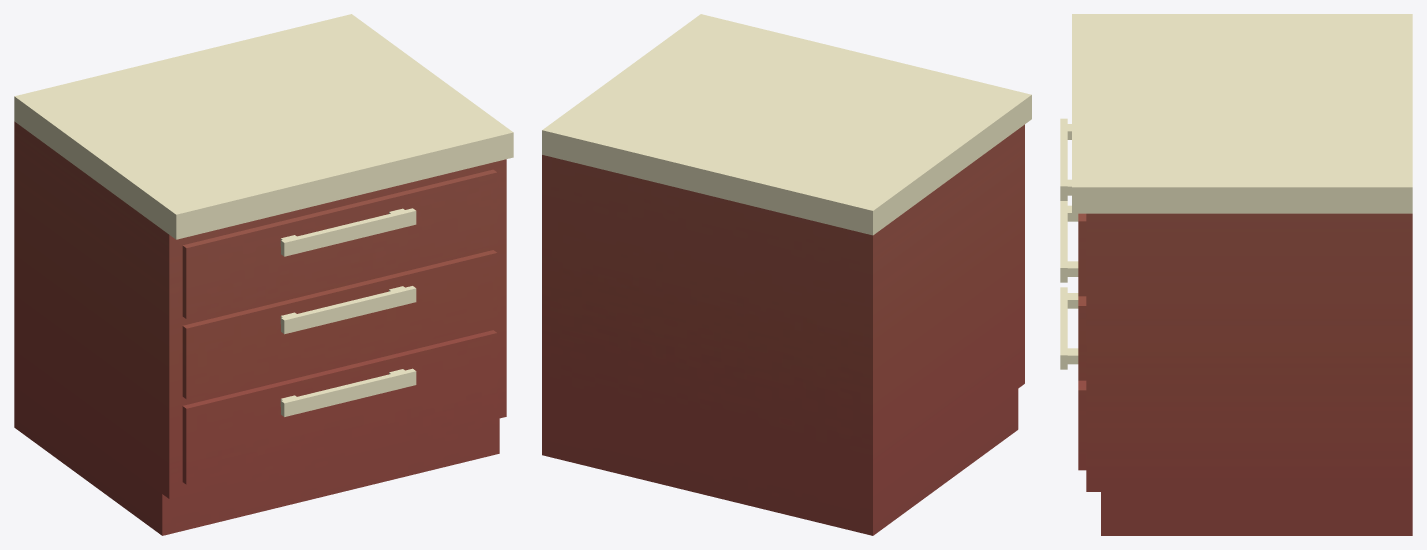
The model's file is SM_Cabinet_1_04.fbx.
3 views of the same model, side by side, from view 1: azimuth 30°, elevation 25°; view 2: azimuth 150°, elevation 25°; view 3: azimuth 270°, elevation 25° (orthographic). The views are drawn at different scales.
Visible parts, largest first — view 1: SM_Cabinet_1_04; view 2: SM_Cabinet_1_04; view 3: SM_Cabinet_1_04.
Part boxes in pixels (x1=…): SM_Cabinet_1_04: x1=14, y1=14, x2=513, y2=535; SM_Cabinet_1_04: x1=542, y1=14, x2=1031, y2=535; SM_Cabinet_1_04: x1=1060, y1=14, x2=1412, y2=535.
Bounding box in the file's own units: 114 × 107 × 98.3.
